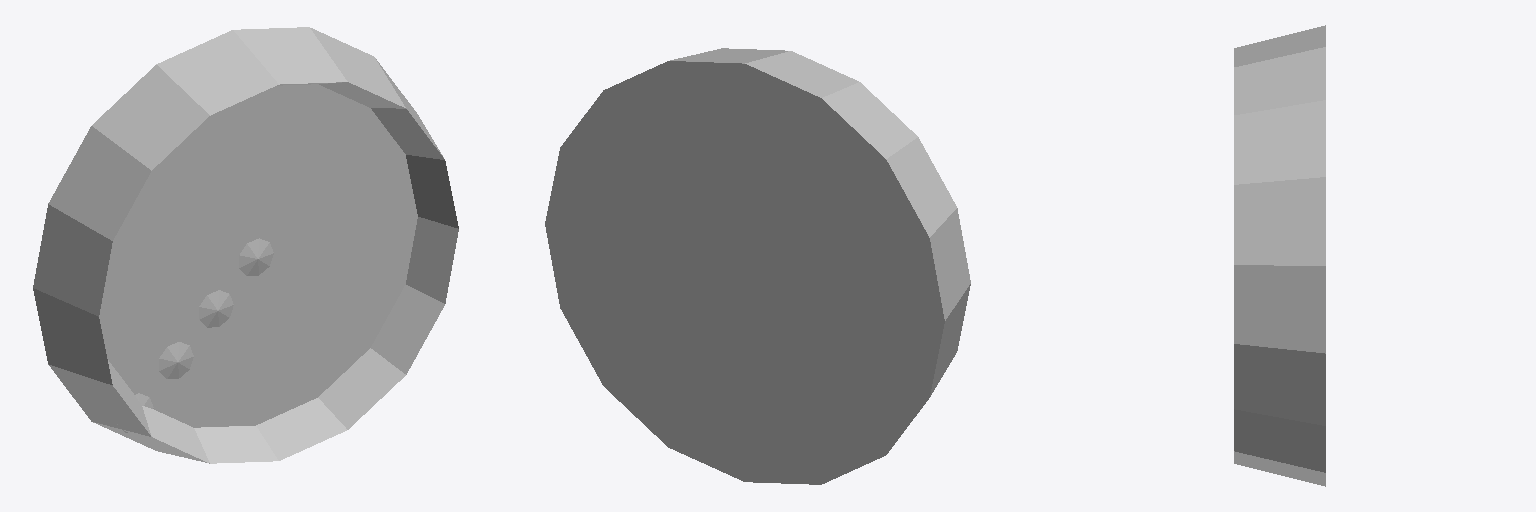
Rendered from obj_interactive_compass_test0.obj.
The picture shows the model from 3 angles: view 1: azimuth 30°, elevation 25°; view 2: azimuth 150°, elevation 25°; view 3: azimuth 270°, elevation 25°; orthographic projection.
Visible parts, largest first — view 1: Cylinder1; view 2: Cylinder1; view 3: Cylinder1.
Part boxes in pixels (left/top/right/bottom): Cylinder1: left=33, top=27, right=458, bottom=463; Cylinder1: left=545, top=48, right=970, bottom=484; Cylinder1: left=1234, top=25, right=1325, bottom=486.
Size of the model in its own units: 1 by 1 by 0.2.